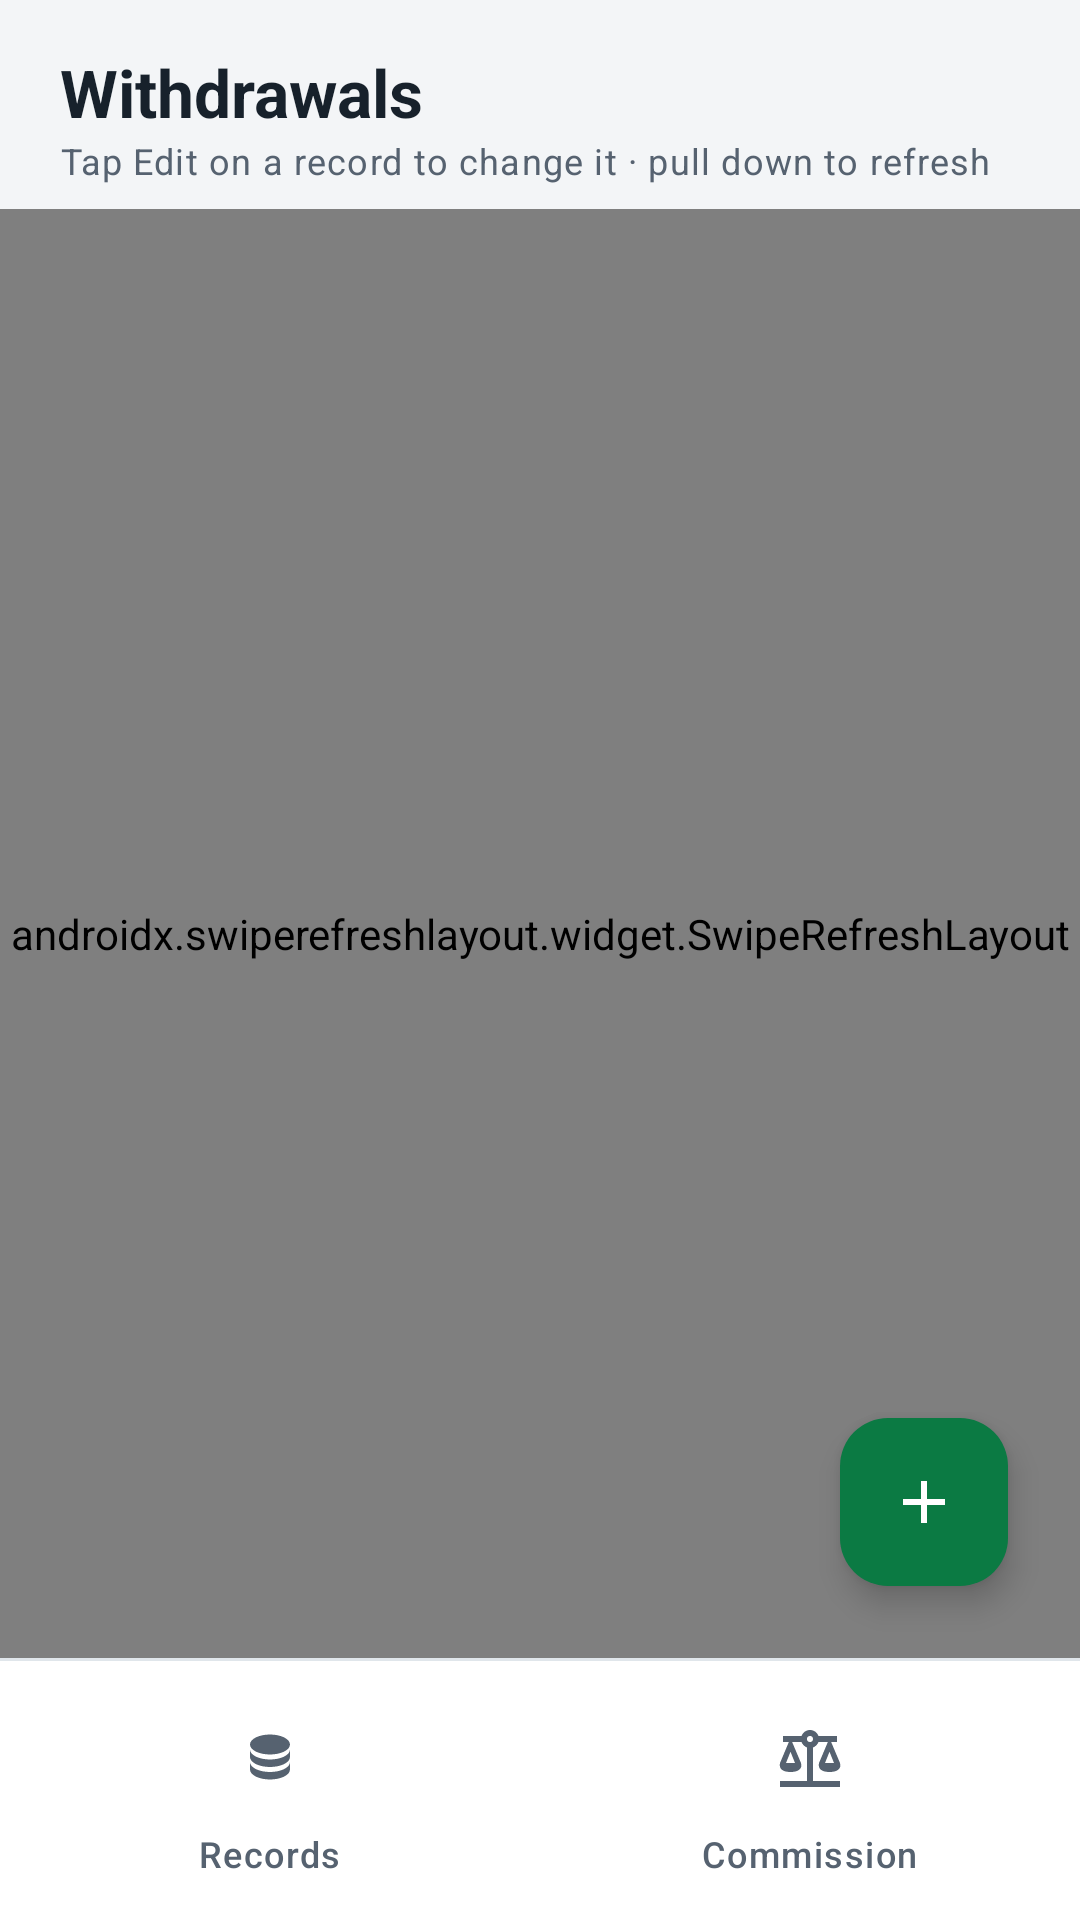

Where to tap for icons on this 1080 x 1920 app screen, as (x=x, y=y):
Add record: (x=924, y=1502)
